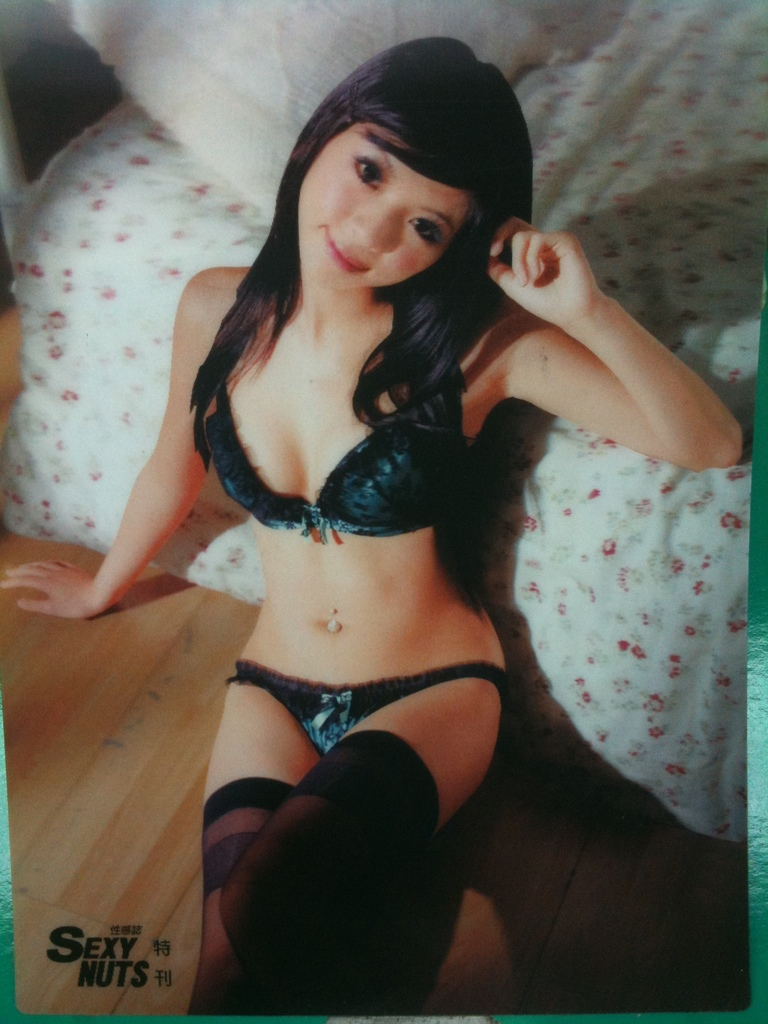Human_hand: (488, 209, 598, 326), (2, 557, 121, 620)
